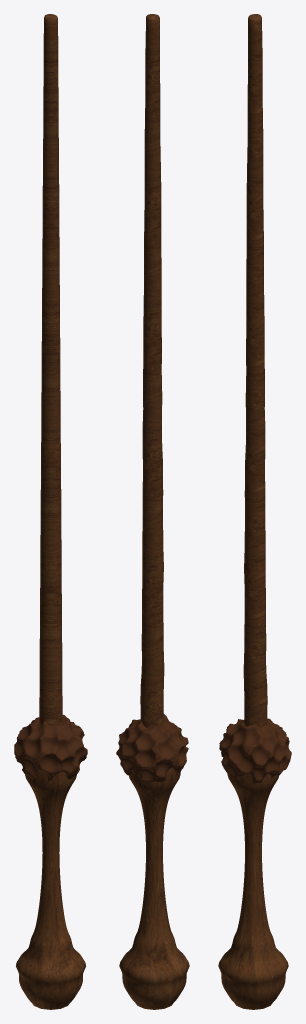
File: wand6.glb
The picture shows the model from 3 angles, left to right: view 1: azimuth 90°, elevation 25°; view 2: azimuth 150°, elevation 25°; view 3: azimuth 330°, elevation 25°; orthographic projection.
Parts seen in each view (by area): view 1: OUT_CUSTOM_WAND; view 2: OUT_CUSTOM_WAND; view 3: OUT_CUSTOM_WAND.
Part boxes in pixels (x1,y1,x2,y2): OUT_CUSTOM_WAND: (14, 14, 87, 1009); OUT_CUSTOM_WAND: (116, 14, 189, 1009); OUT_CUSTOM_WAND: (218, 14, 291, 1009).
Size of the model in its own units: 0.028 by 0.4162 by 0.0281.
Materials: 2 (2 with a texture image).
